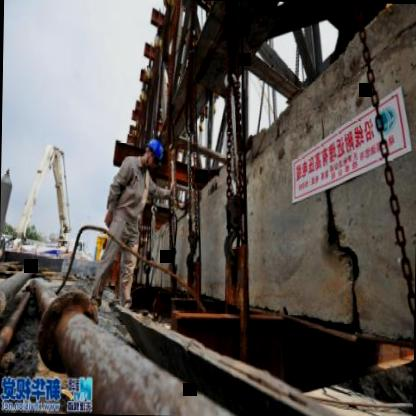helmet: (140, 135, 164, 170)
